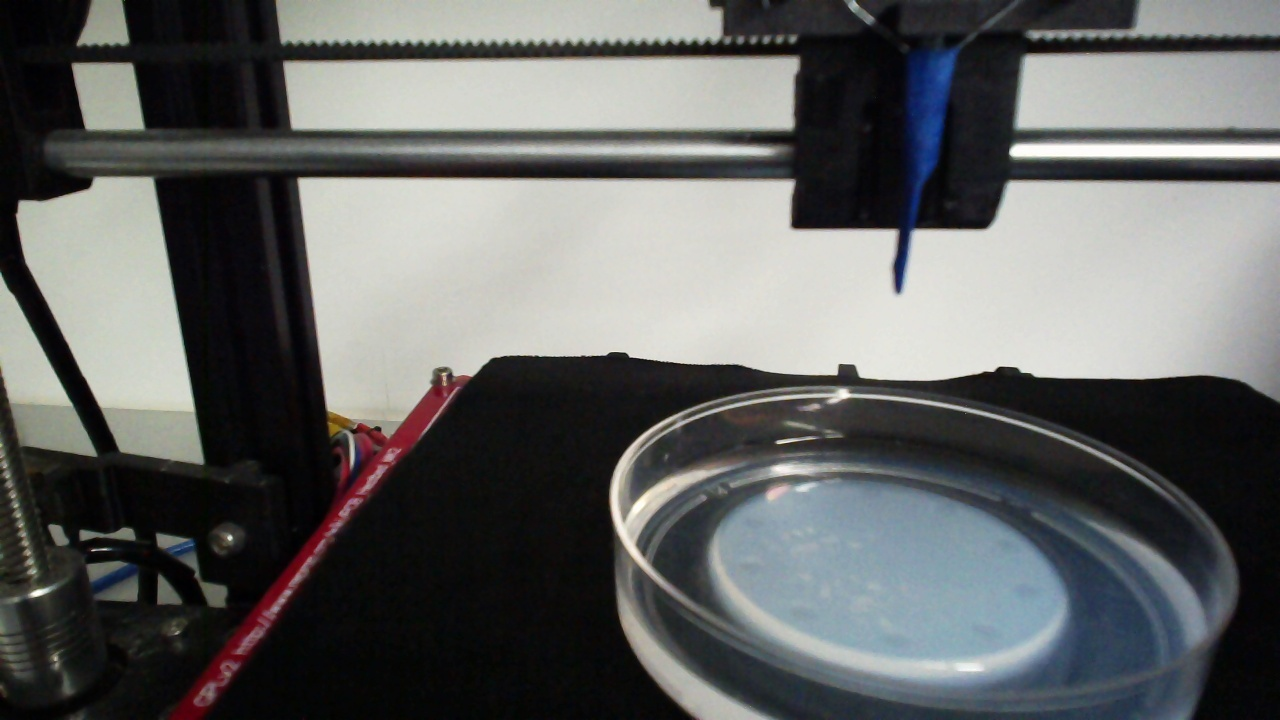groove: (968, 617, 1001, 642), (1010, 578, 1044, 602), (880, 628, 913, 650), (786, 602, 819, 622), (995, 534, 1024, 556), (934, 498, 961, 519), (740, 513, 768, 531), (737, 557, 762, 577), (861, 482, 886, 500)
needle: (894, 52, 955, 293)
